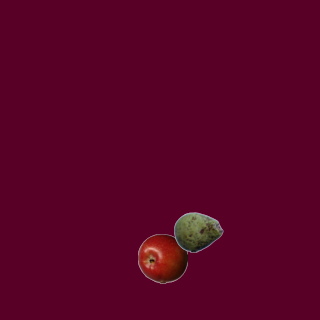Apple Braeburn: (137, 233, 187, 283)
Pear Stone: (173, 207, 223, 257)
